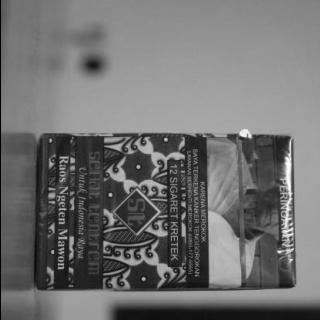objects: (34, 130, 296, 292)
